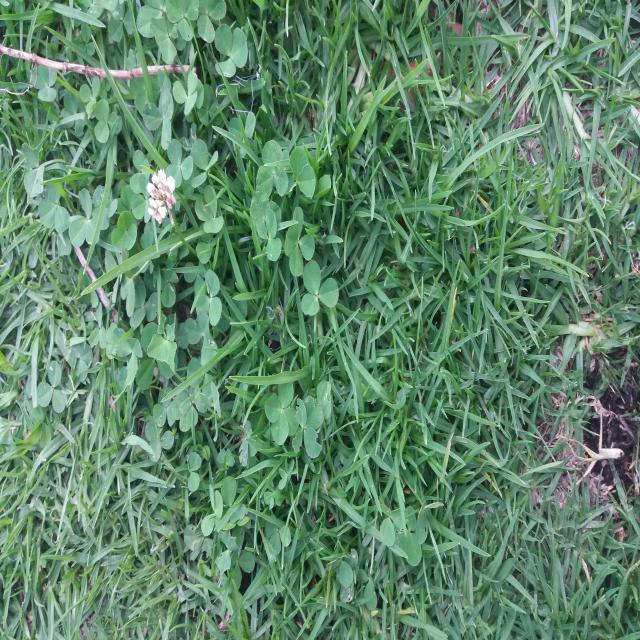Four Leaf Clover: (265, 382, 294, 445), (296, 396, 323, 458), (237, 420, 257, 466)
